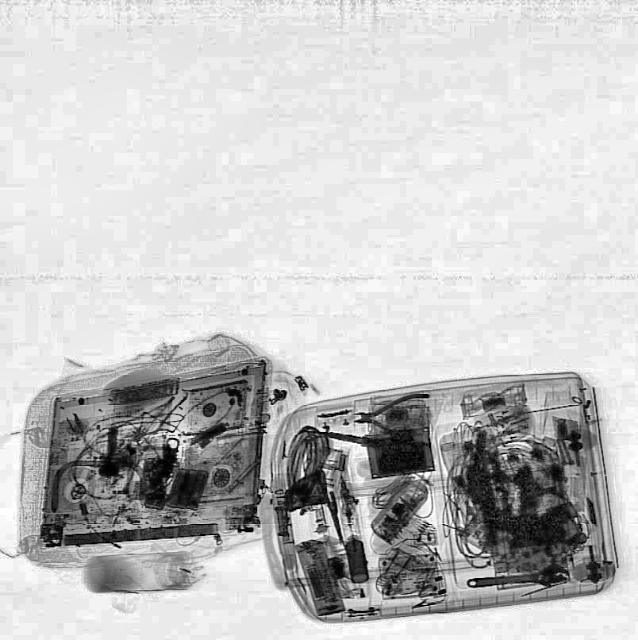Pliers: (352, 392, 431, 438)
Wrench: (466, 560, 572, 594)
